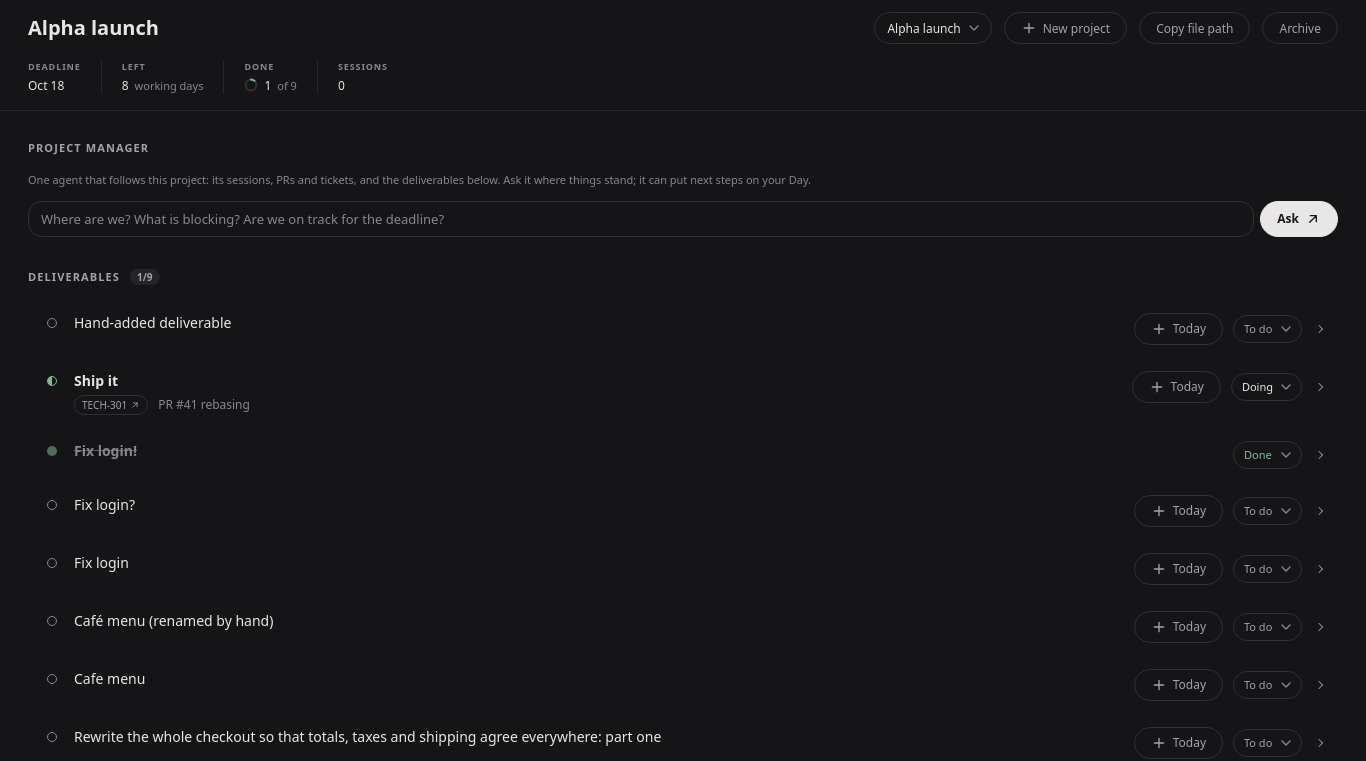
Projects pane › keeps an open task, typed text and the selected project across a refresh
This screenshot has width=1366, height=761.
Expected: the heading "Alpha launch" is shown, [28,14,159,41]
Click the heading "Ship it TECH-301 PR #41 rebasing Today Doing": (96, 380) [28,359,1338,427]
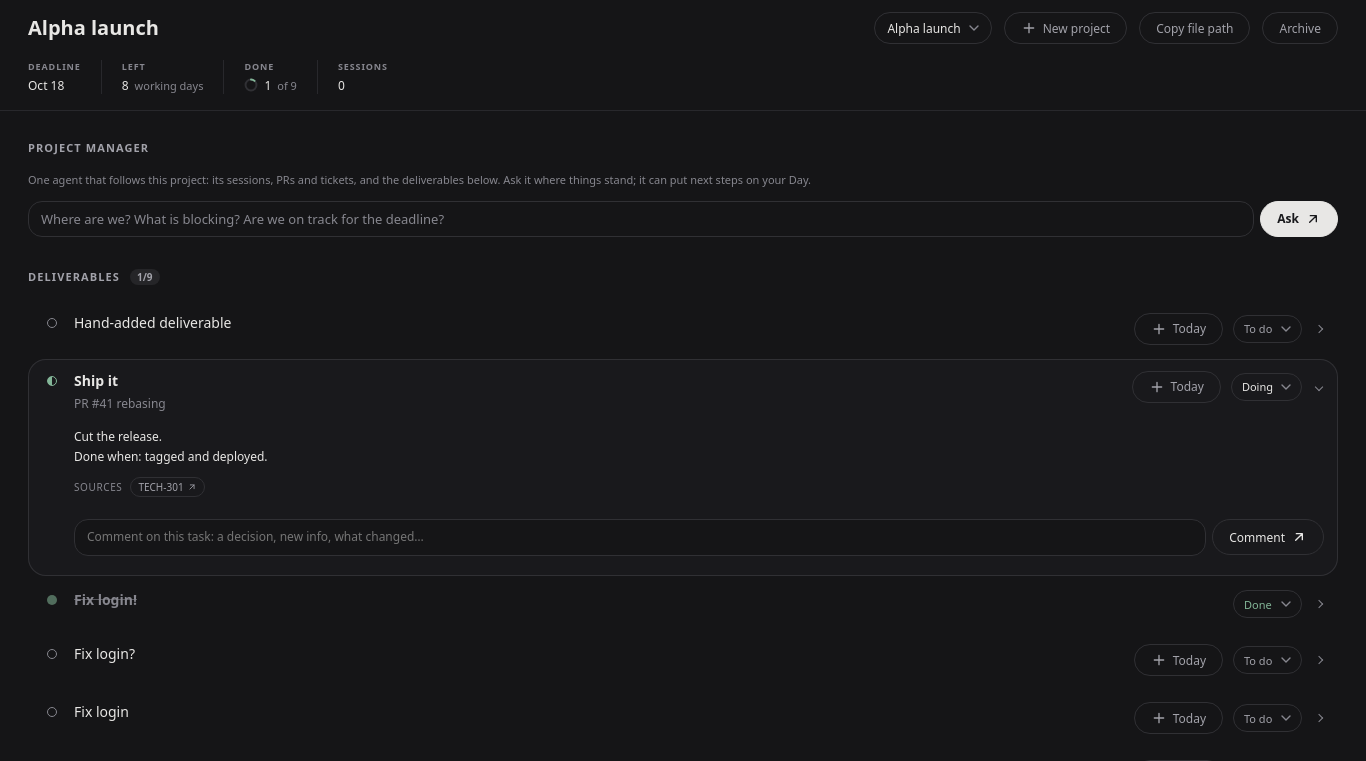
In the text box named "Comment on Ship it": (640, 538) [74,519,1206,556], type "draft in progress"
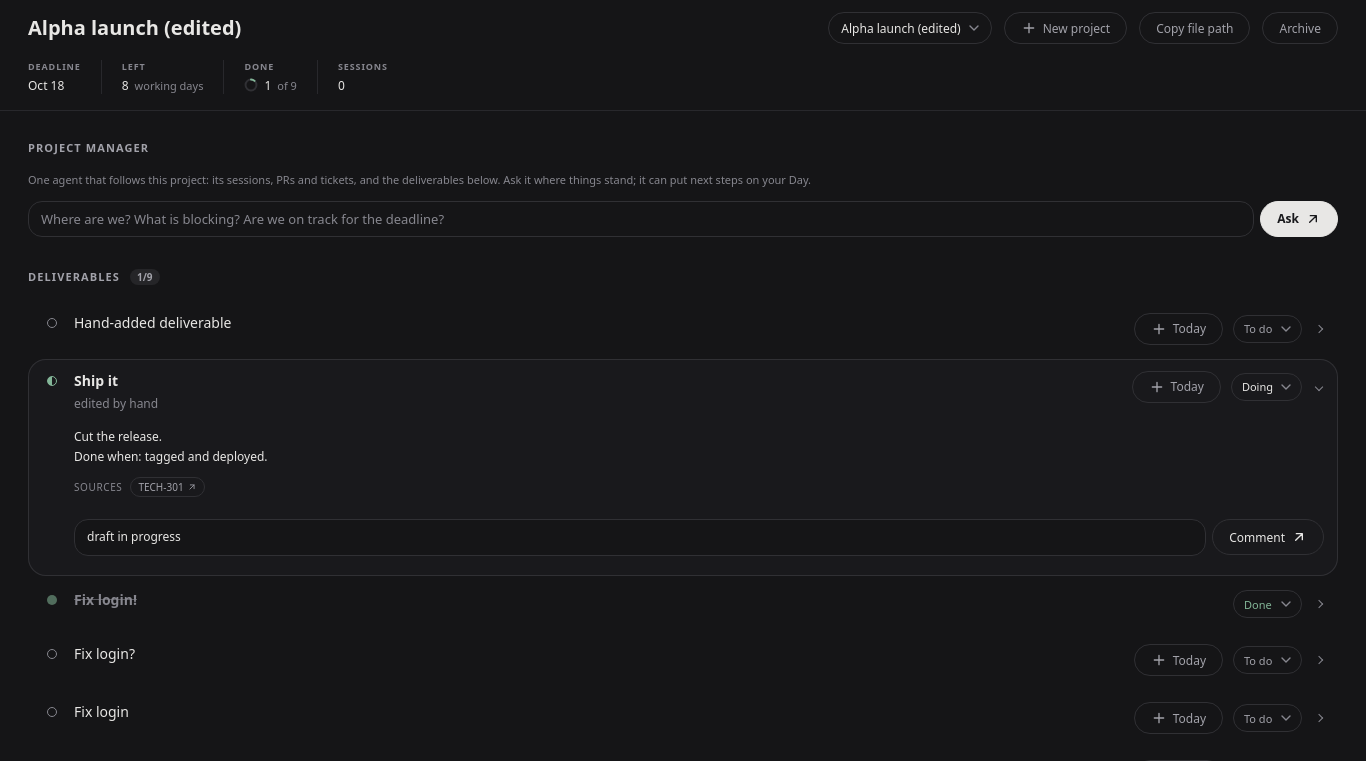
Expected: the heading "Alpha launch (edited)" is shown, [28,14,241,41]
Expected: the text with class "ui-row-latest" reads "edited by hand", [74,395,158,412]
